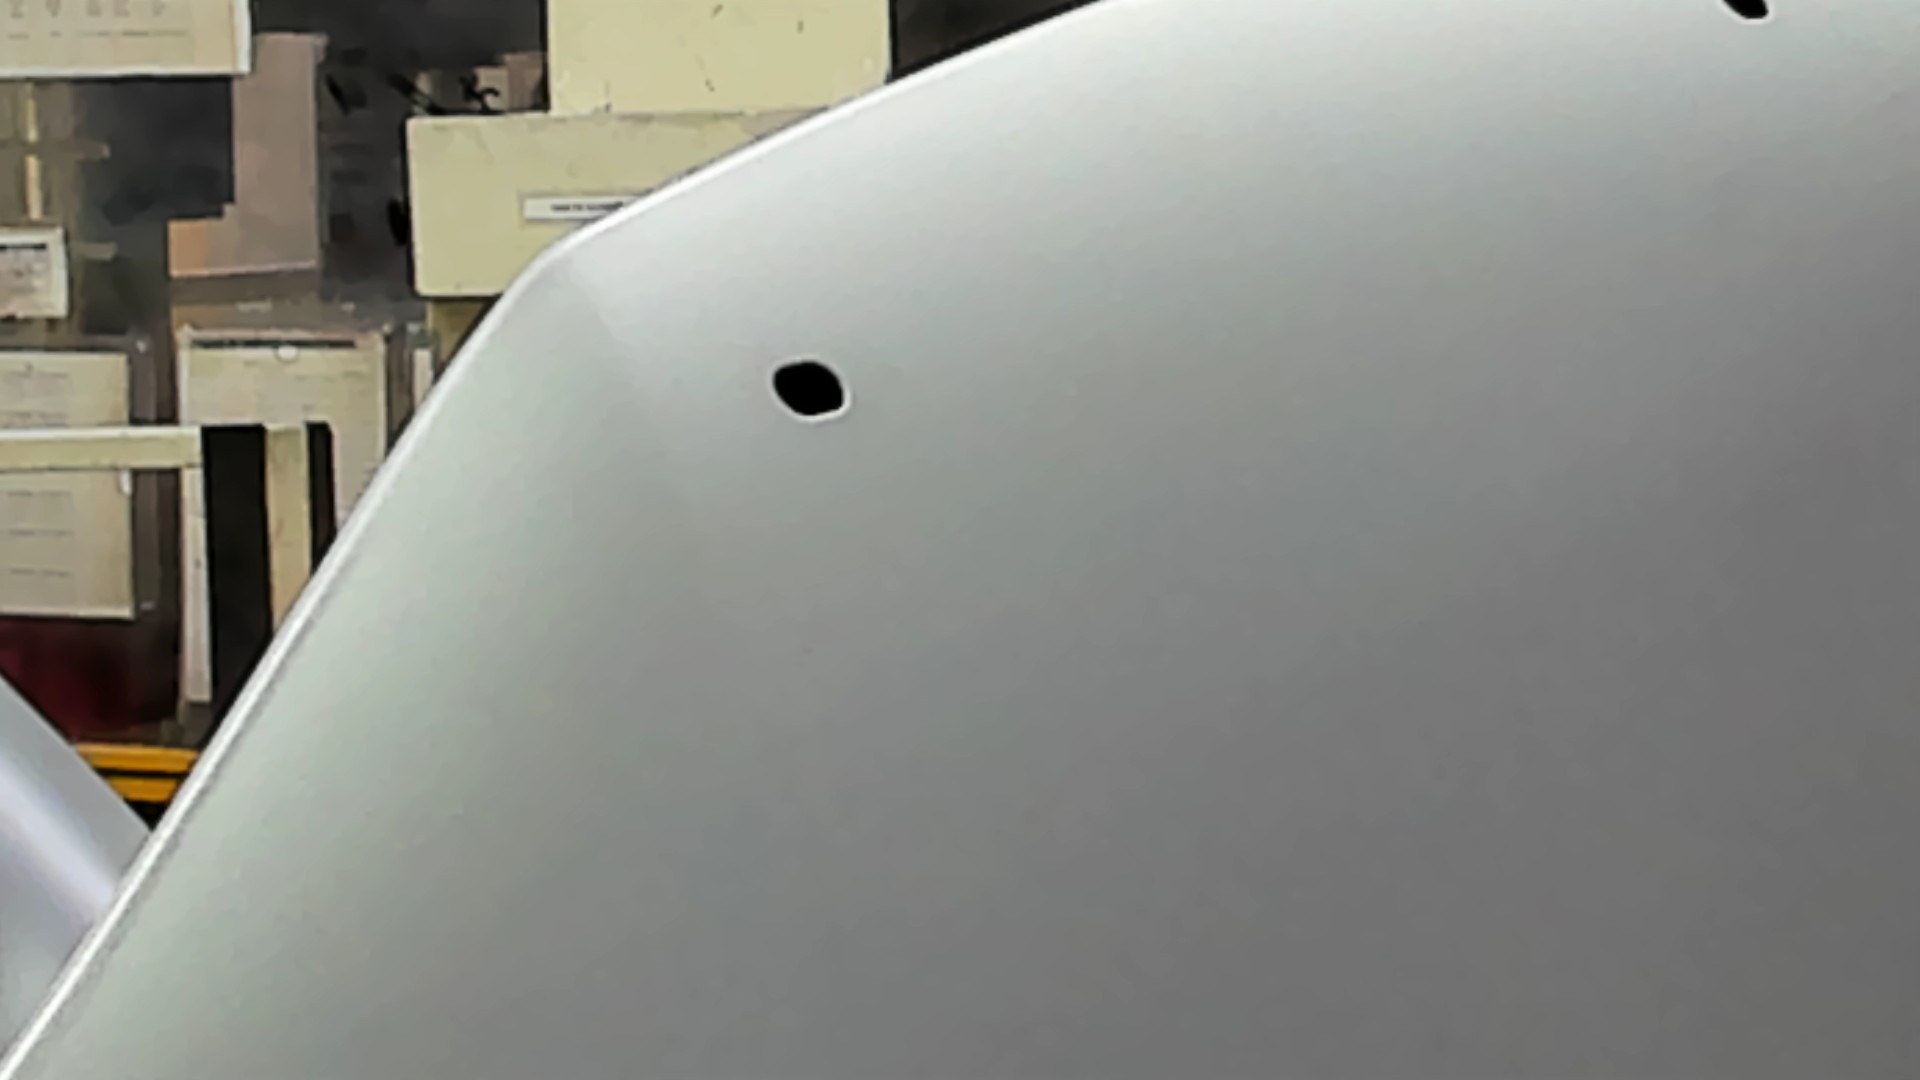amorfo: (764, 356, 855, 425), (1714, 1, 1783, 26)
